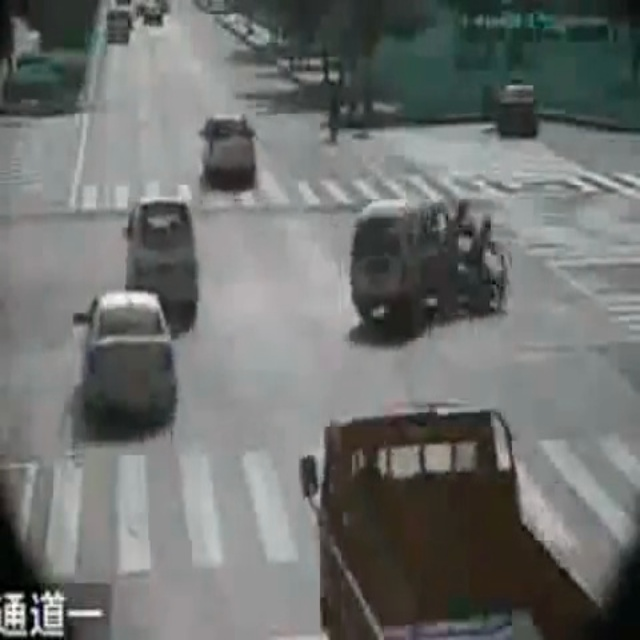acc: (341, 190, 511, 336)
